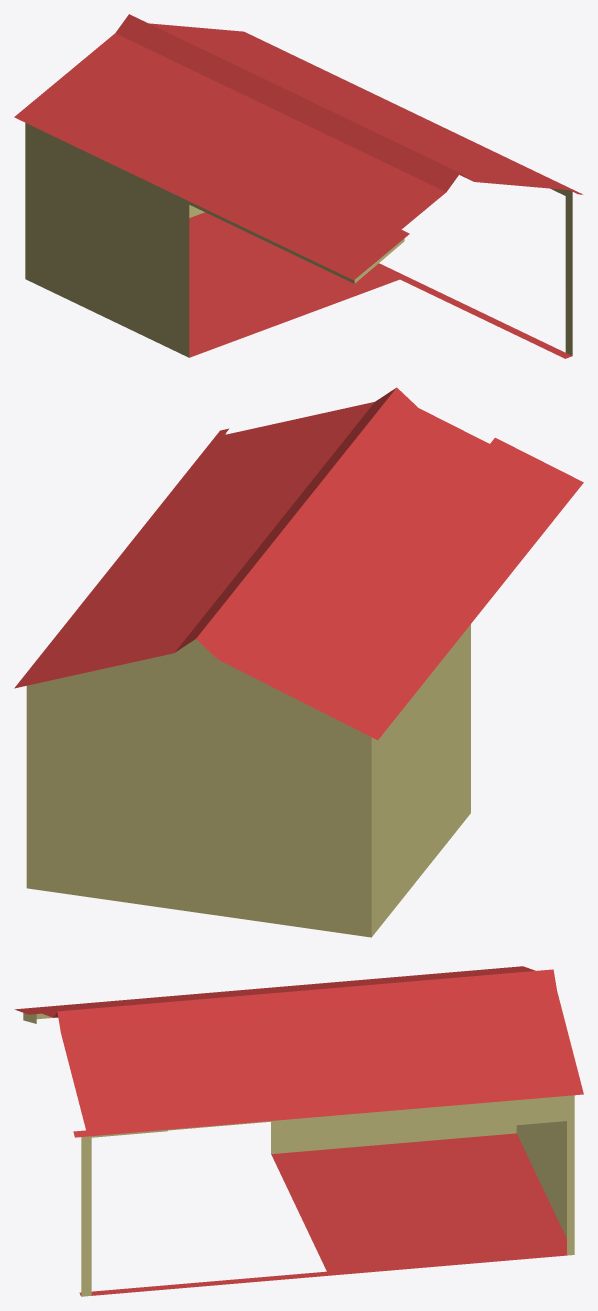
3 views of the same model, one above another, from view 1: azimuth 30°, elevation 25°; view 2: azimuth 150°, elevation 25°; view 3: azimuth 270°, elevation 25° (orthographic). The views are drawn at different scales.
Size of the model in its own units: 25.12 by 35.3 by 15.31.
